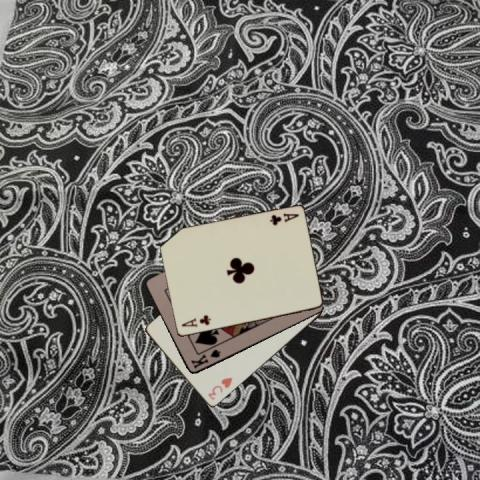3h: (205, 375, 234, 401)
Ac: (179, 312, 212, 329), (267, 210, 300, 226)
Ks: (188, 346, 222, 370)
